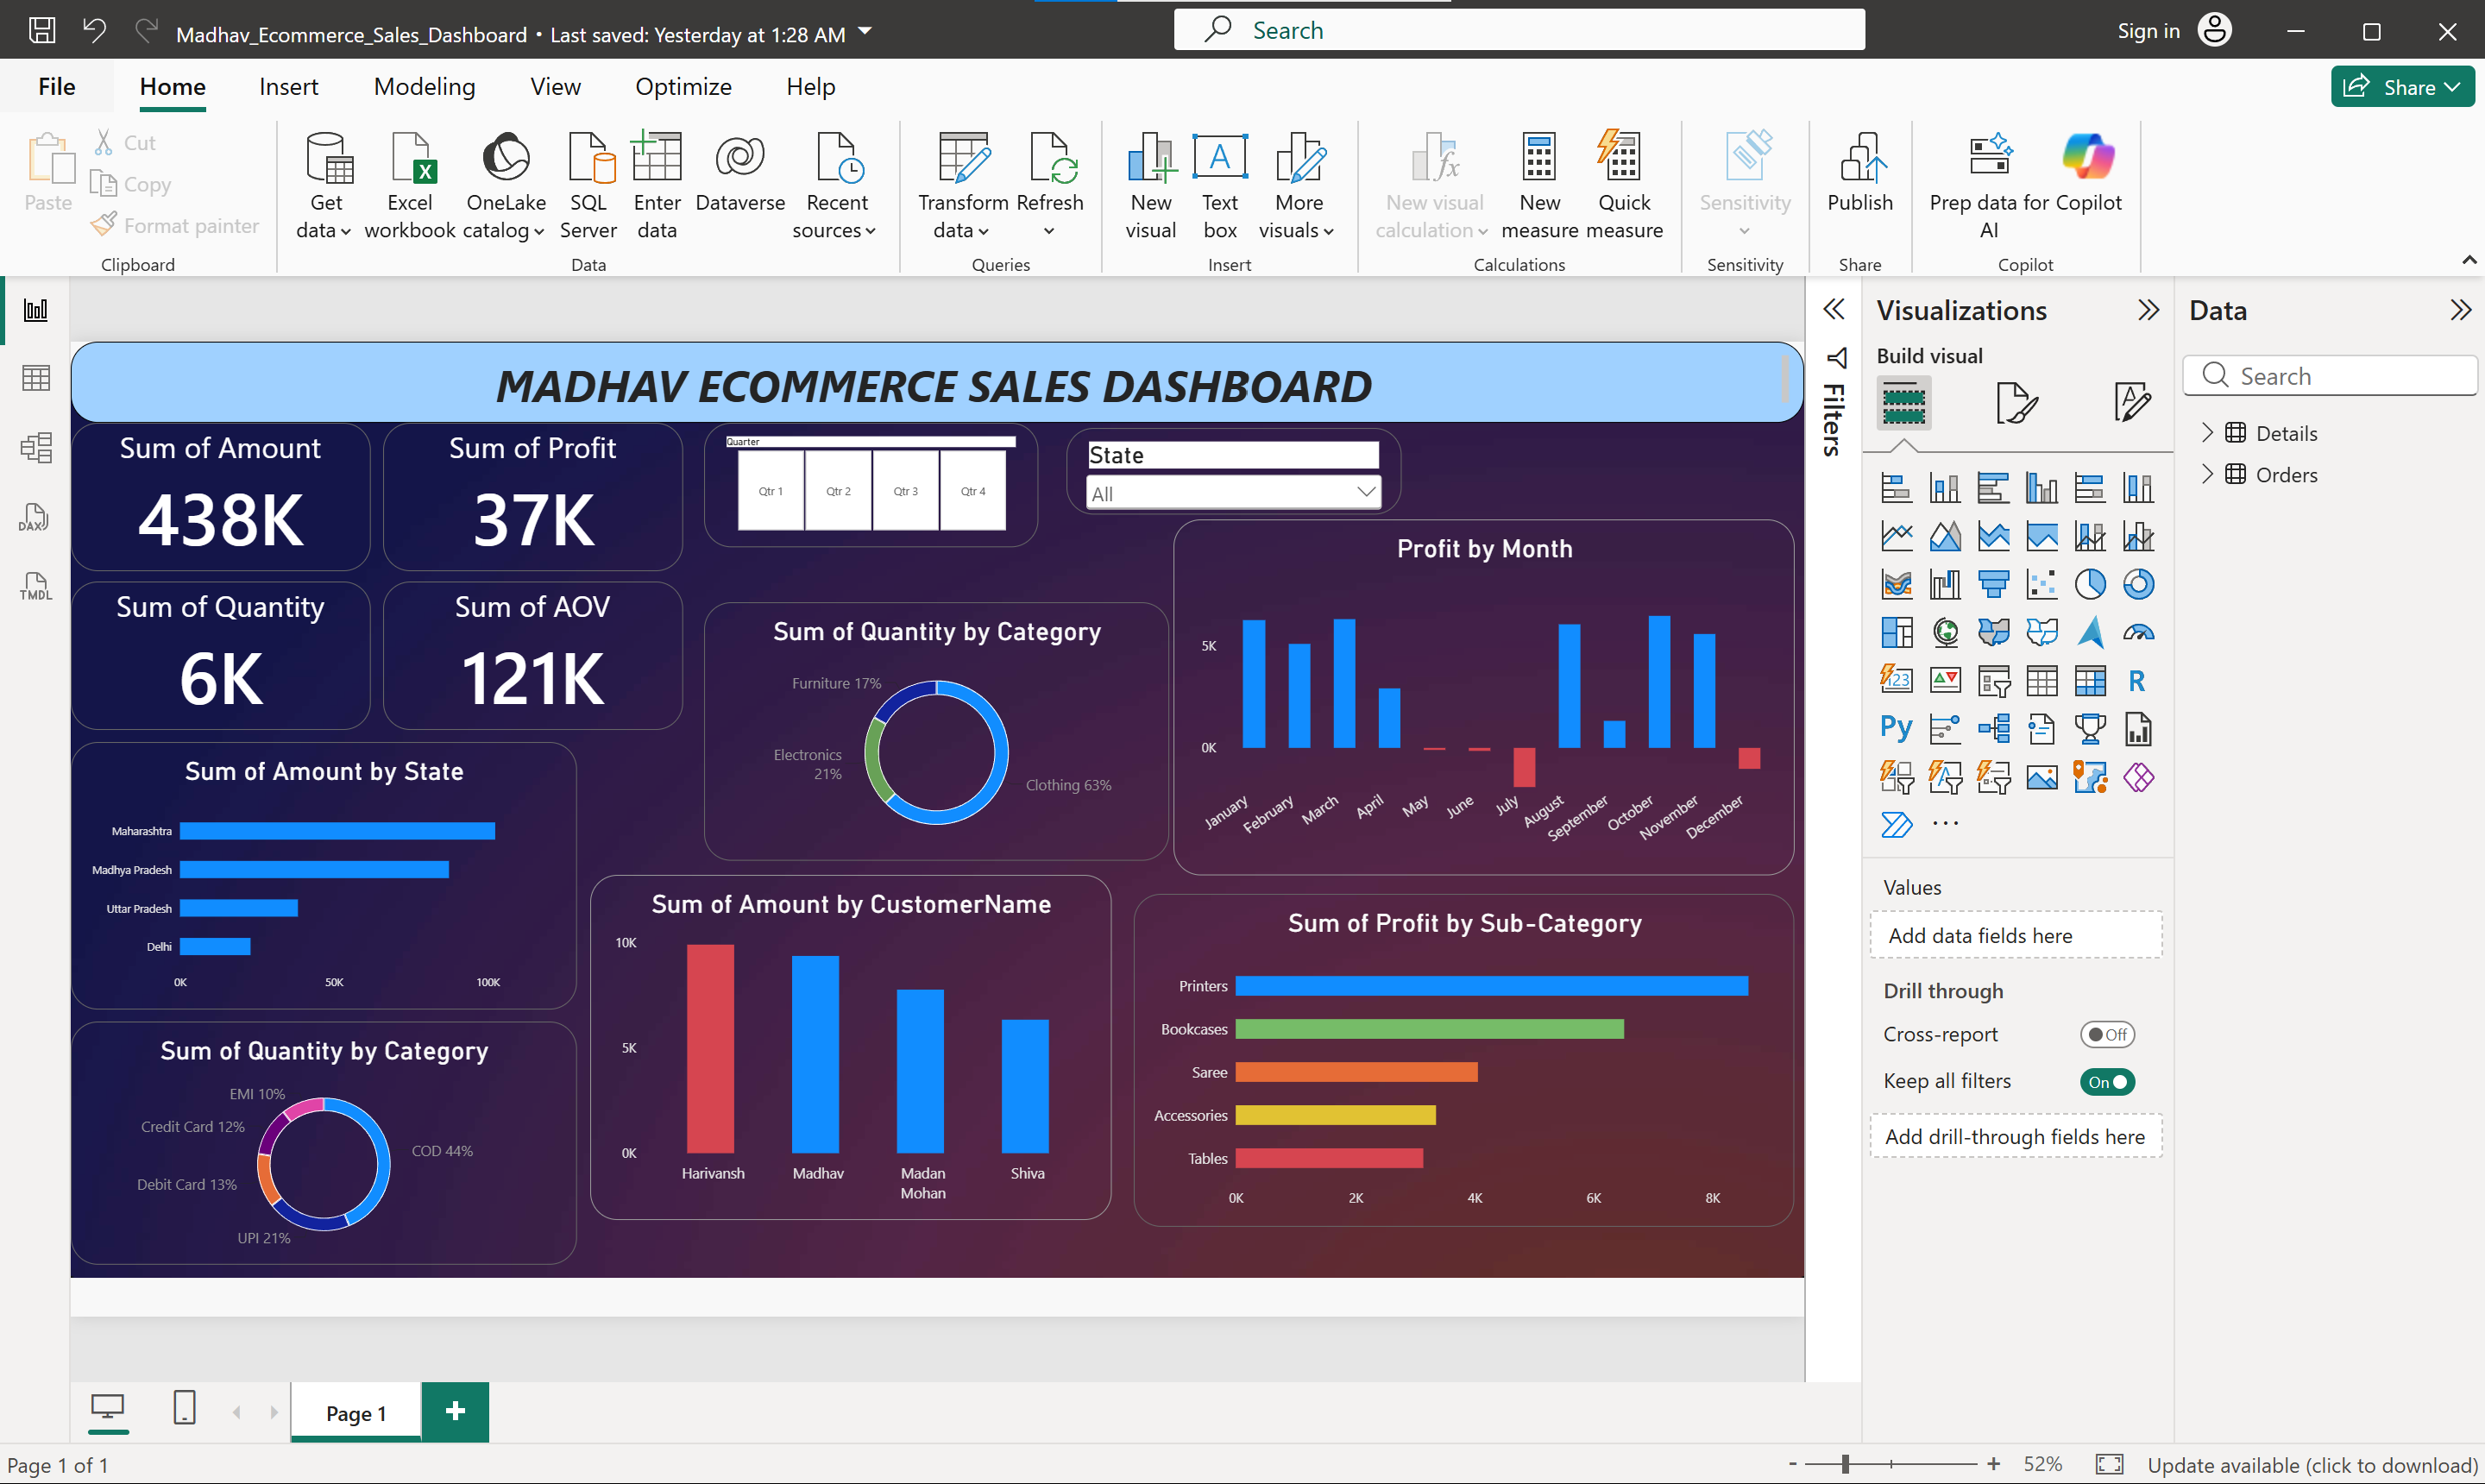

The dashboard page shown, as its layout file describes it:
{"tool":"powerbi","page":{"name":"Page 1","canvas":[1920,1080],"ordinal":0},"visuals":[{"type":"columnChart","title":"Profit  by Month","fields":{"Category":["Orders.Order Date.Variation.Date Hierarchy.Month"],"Y":["Sum(Details.Profit)"]},"box":[1221.5,197.1,687.4,394.3],"z":1},{"type":"textbox","box":[0,0,1920,89.9],"z":2},{"type":"barChart","fields":{"Category":["Details.Sub-Category"],"Y":["Sum(Details.Profit)"]},"box":[1177.7,611.6,731.2,369],"z":3},{"type":"donutChart","title":"Sum of Quantity by Category","fields":{"Category":["Details.Category"],"Y":["Sum(Details.Quantity)"]},"box":[700.9,288.1,515.6,286.4],"z":4},{"type":"donutChart","title":"Sum of Quantity by Category","fields":{"Category":["Details.PaymentMode"],"Y":["Sum(Details.Quantity)"]},"box":[0,753.1,561.1,269.6],"z":5},{"type":"cardVisual","fields":{"Data":["Sum(Details.Amount)"]},"box":[0,89.3,332.7,164.5],"z":6},{"type":"cardVisual","fields":{"Data":["Sum(Details.Profit)"]},"box":[345.4,89.3,332.7,164.5],"z":7},{"type":"cardVisual","fields":{"Data":["Sum(Details.Quantity)"]},"box":[0,266.2,332.7,164.5],"z":8},{"type":"cardVisual","fields":{"Data":["Sum(Details.AOV)"]},"box":[345.4,266.2,332.7,164.5],"z":9},{"type":"barChart","fields":{"Category":["Orders.State"],"Y":["Sum(Details.Amount)"]},"box":[0,443.1,561.1,296.5],"z":11},{"type":"columnChart","fields":{"Category":["Orders.CustomerName"],"Y":["Sum(Details.Amount)"]},"box":[576.2,591.4,577.9,382.5],"z":12},{"type":"slicer","fields":{"Values":["Orders.Order Date.Variation.Date Hierarchy.Quarter"]},"box":[700.9,89.3,370.7,138.2],"z":13},{"type":"slicer","fields":{"Values":["Orders.State"]},"box":[1103.6,96,370.7,96],"z":14}]}

Visuals, with their boxes on the page's 1920x1080 design canvas (x1, y1, x2, y2). These are canvas units, not pixel positions in the 2485x1484 screenshot, which may show the page scaled, cropped or inside an application window:
"Profit  by Month" columnChart: bbox=[1222, 197, 1909, 591]
textbox: bbox=[0, 0, 1920, 90]
barChart - Details.Sub-Category x Sum(Details.Profit): bbox=[1178, 612, 1909, 981]
"Sum of Quantity by Category" donutChart: bbox=[701, 288, 1216, 574]
"Sum of Quantity by Category" donutChart: bbox=[0, 753, 561, 1023]
cardVisual - Sum(Details.Amount): bbox=[0, 89, 333, 254]
cardVisual - Sum(Details.Profit): bbox=[345, 89, 678, 254]
cardVisual - Sum(Details.Quantity): bbox=[0, 266, 333, 431]
cardVisual - Sum(Details.AOV): bbox=[345, 266, 678, 431]
barChart - Orders.State x Sum(Details.Amount): bbox=[0, 443, 561, 740]
columnChart - Orders.CustomerName x Sum(Details.Amount): bbox=[576, 591, 1154, 974]
slicer - Orders.Order Date.Variation.Date Hierarchy.Quarter: bbox=[701, 89, 1072, 228]
slicer - Orders.State: bbox=[1104, 96, 1474, 192]
